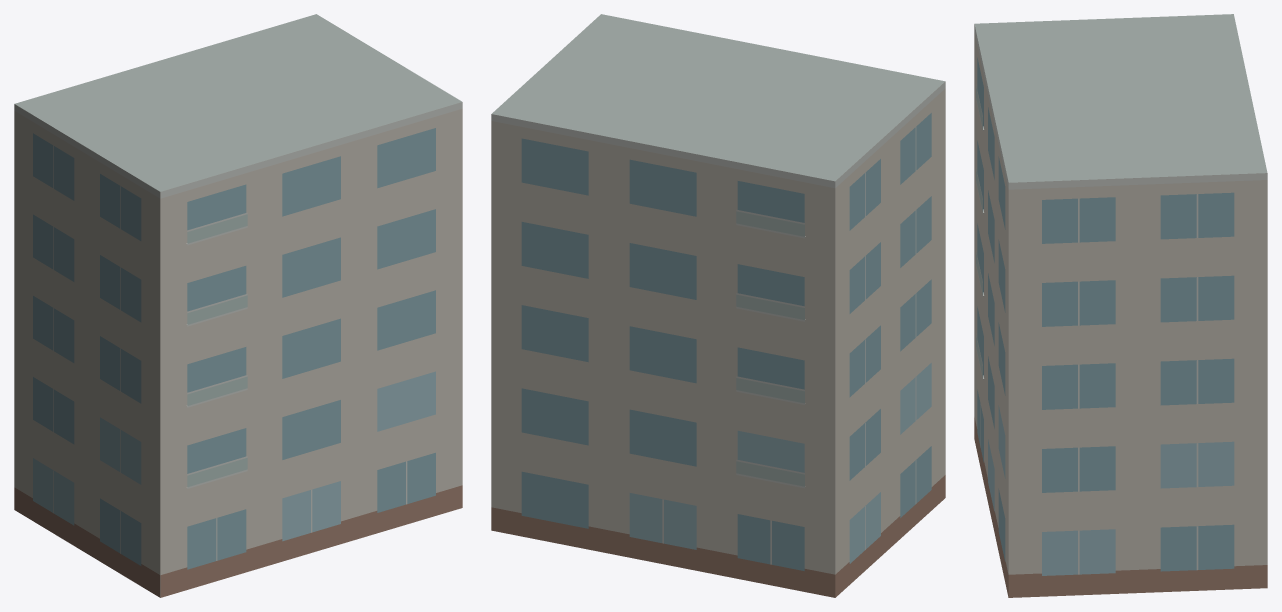
File: survey-upis-32719948.glb
3 views of the same model, side by side, from view 1: azimuth 30°, elevation 25°; view 2: azimuth 150°, elevation 25°; view 3: azimuth 270°, elevation 25° (orthographic). The views are drawn at different scales.
Visible parts, largest first — view 1: survey-upis-32719948.tmp; view 2: survey-upis-32719948.tmp; view 3: survey-upis-32719948.tmp.
Boxes of the visible parts, left/top/right/bottom form: survey-upis-32719948.tmp: left=14, top=14, right=462, bottom=597; survey-upis-32719948.tmp: left=491, top=14, right=945, bottom=597; survey-upis-32719948.tmp: left=974, top=14, right=1267, bottom=597.
Size of the model in its own units: 12.83 by 14.7 by 9.42.
